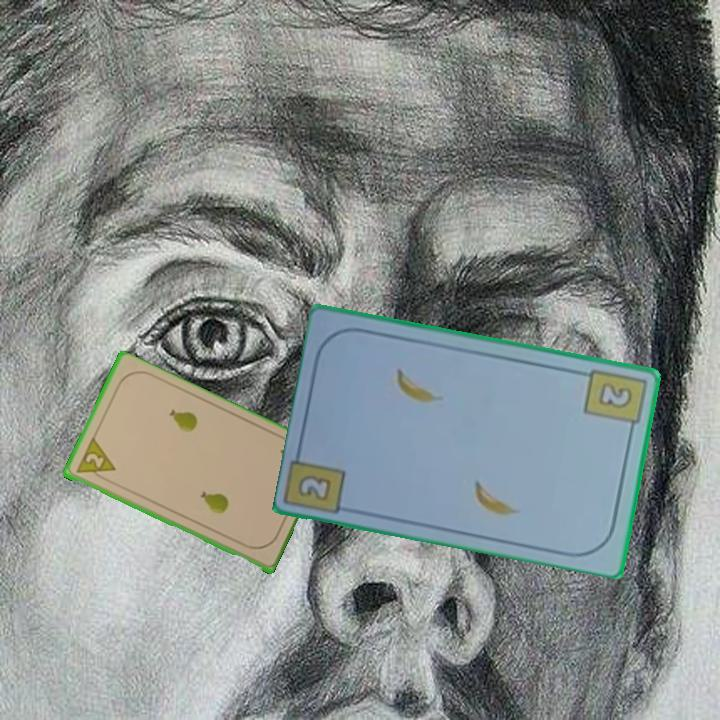2b: (580, 365, 649, 438), (294, 471, 335, 504)
2p: (71, 435, 118, 484)
